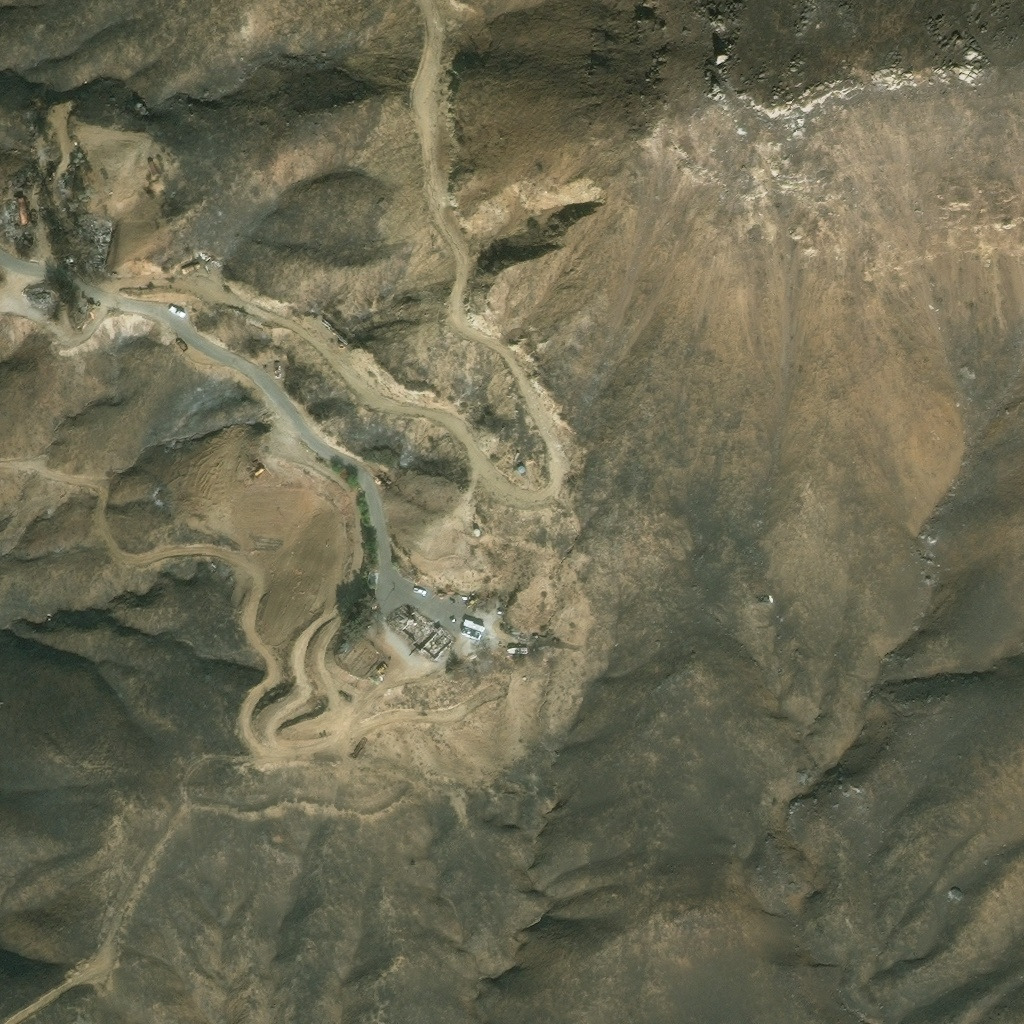0 no-damage: (367, 570, 378, 585), (472, 529, 480, 538), (517, 465, 524, 473)
3 destroyed: (385, 606, 455, 664), (337, 639, 352, 653)
